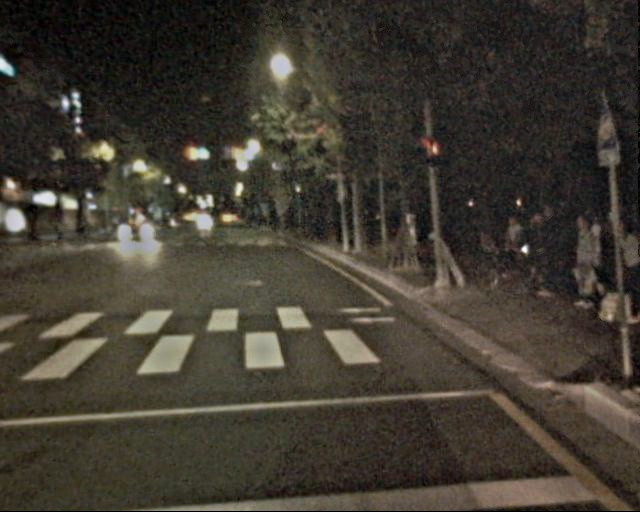person: (506, 209, 561, 295), (565, 216, 604, 311), (577, 206, 616, 300), (609, 214, 640, 325)
